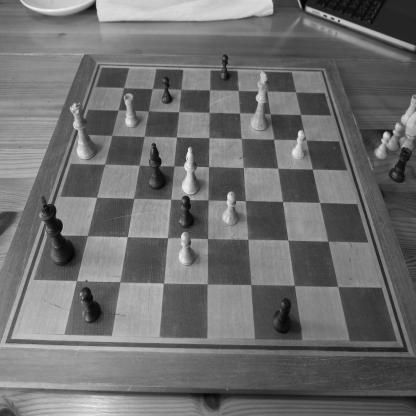black-king: (37, 194, 78, 268)
black-pawn: (75, 284, 104, 325), (271, 295, 295, 334), (177, 191, 195, 230), (218, 52, 232, 82), (161, 74, 174, 105)
black-rook: (388, 146, 414, 186)
white-bishop: (181, 144, 199, 194), (147, 141, 164, 192)
white-king: (250, 68, 272, 134)
white-pawn: (220, 188, 243, 228), (178, 230, 196, 268), (291, 127, 309, 163), (386, 121, 405, 152), (374, 130, 391, 161)
white-queen: (69, 99, 100, 163)
white-rook: (123, 89, 139, 132)
